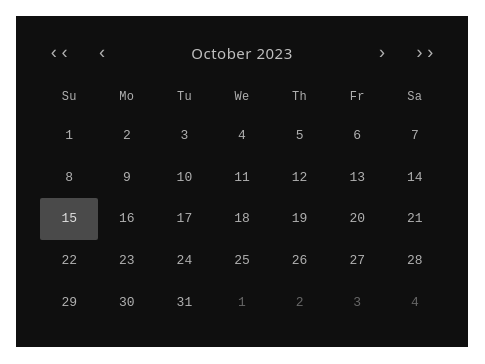
Test case: Calendar using date-fns › navigates to next month
Click the button titled "Next month" at (382, 53), box [366, 40, 398, 66]
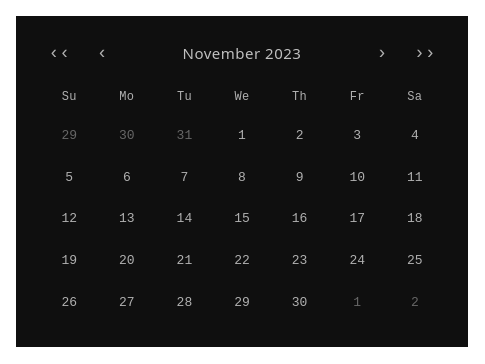
Check: the text "November 2023" is shown, box [182, 43, 301, 63]
